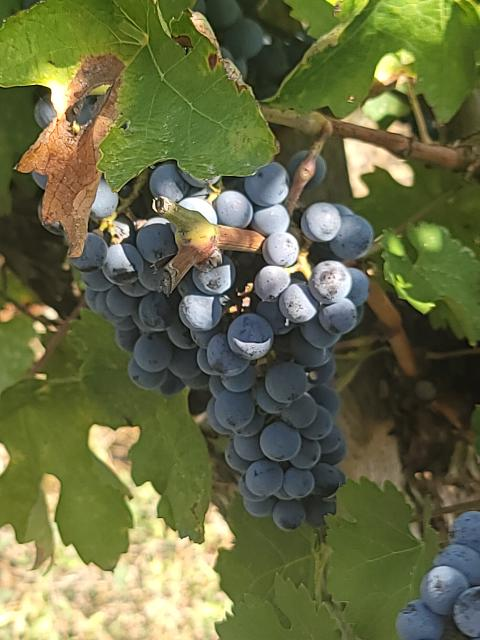grapes: (71, 161, 374, 530)
